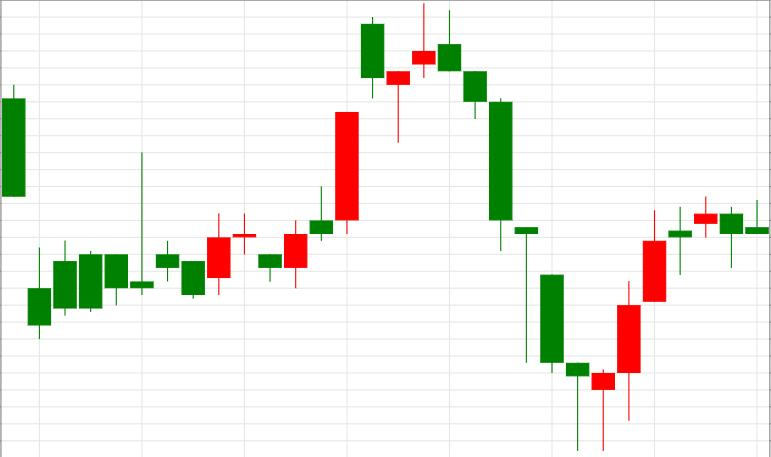three_white_soldiers_rise: (438, 11, 666, 451)
